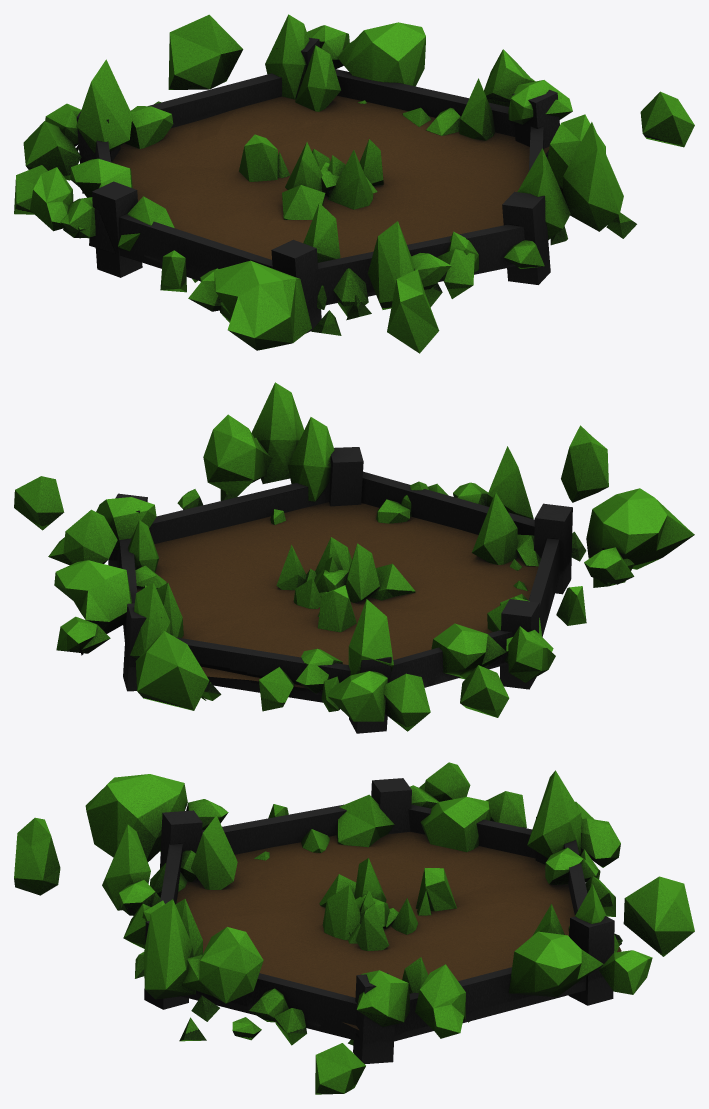
File: battleground.fbx
The picture shows the model from 3 angles, top to bottom: view 1: azimuth 30°, elevation 25°; view 2: azimuth 150°, elevation 25°; view 3: azimuth 270°, elevation 25°; orthographic projection. The views are drawn at different scales.
Visible parts, largest first — view 1: trees, landscape_001, poles; view 2: trees, landscape_001, poles; view 3: trees, landscape_001, poles.
Part boxes in pixels (bbox=[...]): trees: bbox=[14, 14, 694, 353]; landscape_001: bbox=[111, 96, 549, 259]; poles: bbox=[76, 37, 559, 333]; trees: bbox=[14, 382, 694, 731]; landscape_001: bbox=[137, 502, 538, 690]; poles: bbox=[108, 447, 572, 733]; trees: bbox=[14, 762, 694, 1094]; landscape_001: bbox=[176, 831, 621, 1030]; poles: bbox=[144, 778, 614, 1063].
Size of what is drawn, in the model's own units: 36.02 by 9.19 by 36.13.
Materials: 3 (3 with a texture image).
